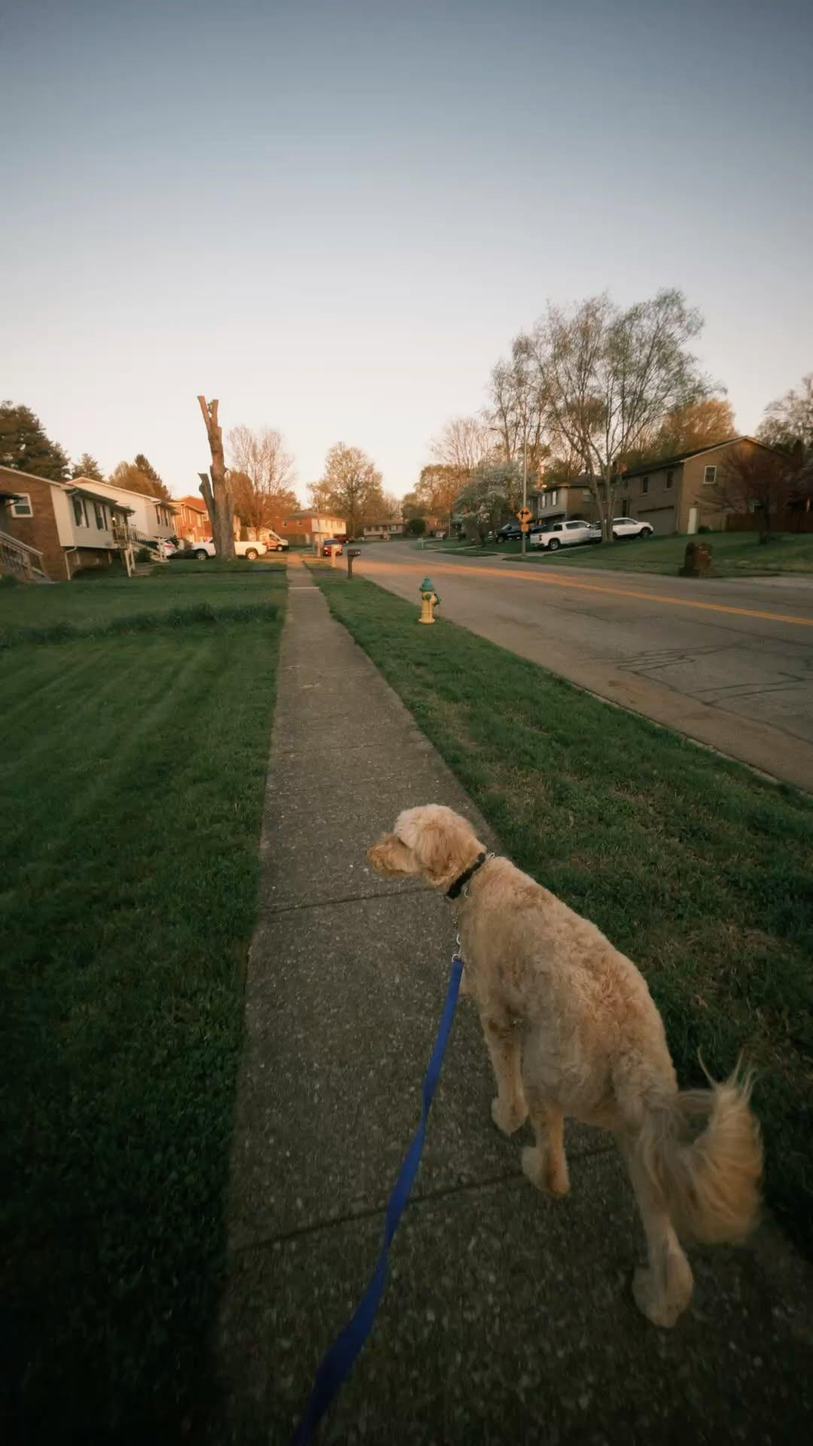adult_dog: (364, 804, 767, 1326)
